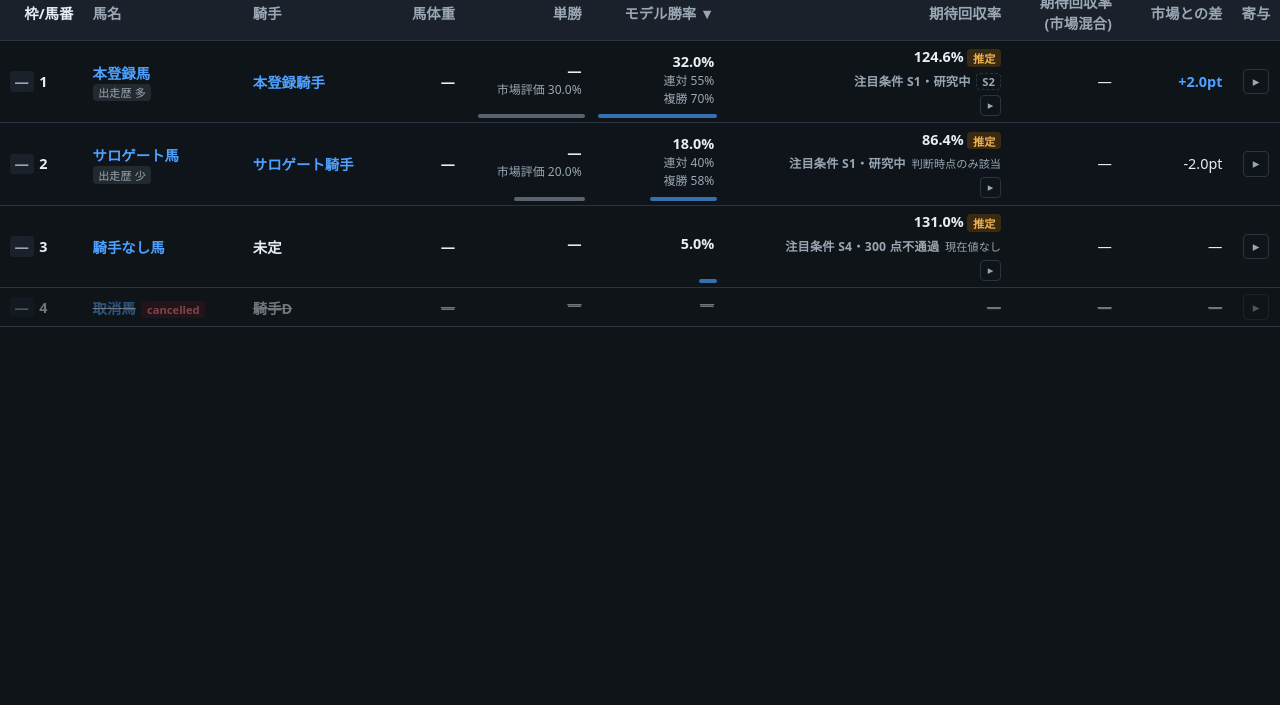
Test: HorseEntriesTable 注目条件 (138) › scoped display discipline + ROI basis labels over the chips and every opened panel (SC-007)
Click the button named "注目条件の内訳". click: (991,105)
box: [980,95,1001,116]
(page scrolled)
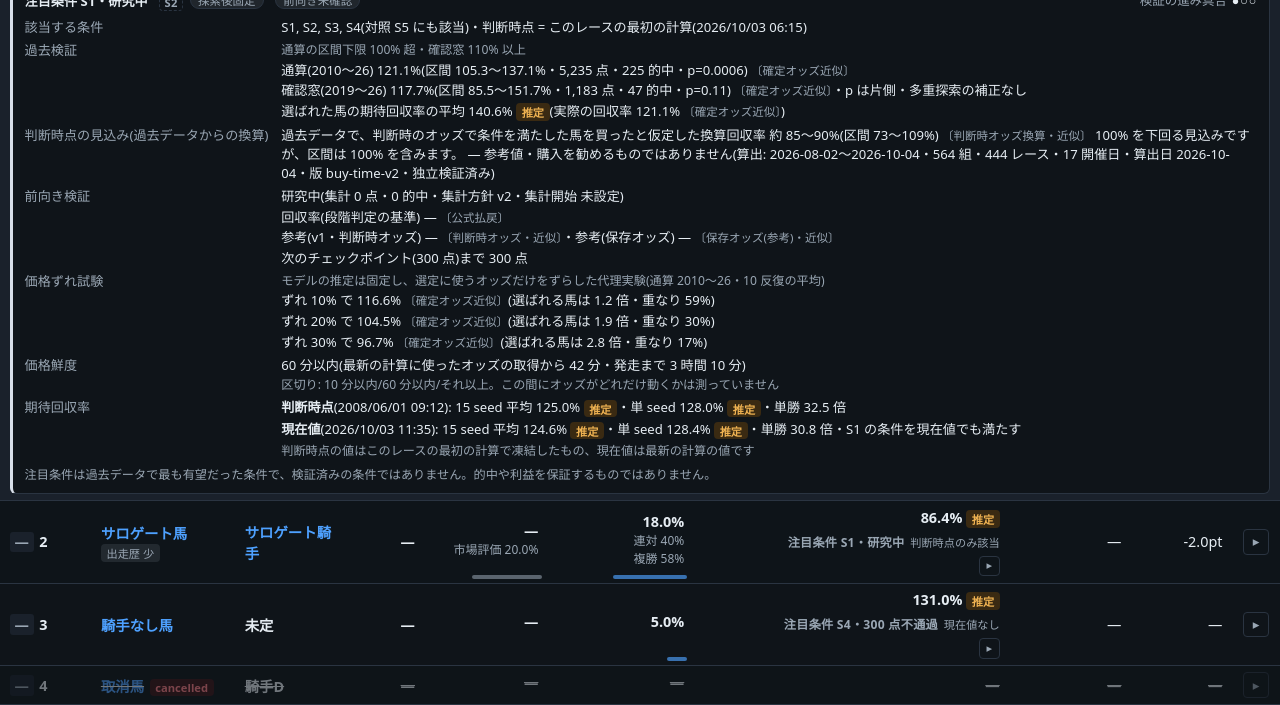
Click the button named "注目条件の内訳". click: (989,566)
box: [979,556,1000,576]
(page scrolled)
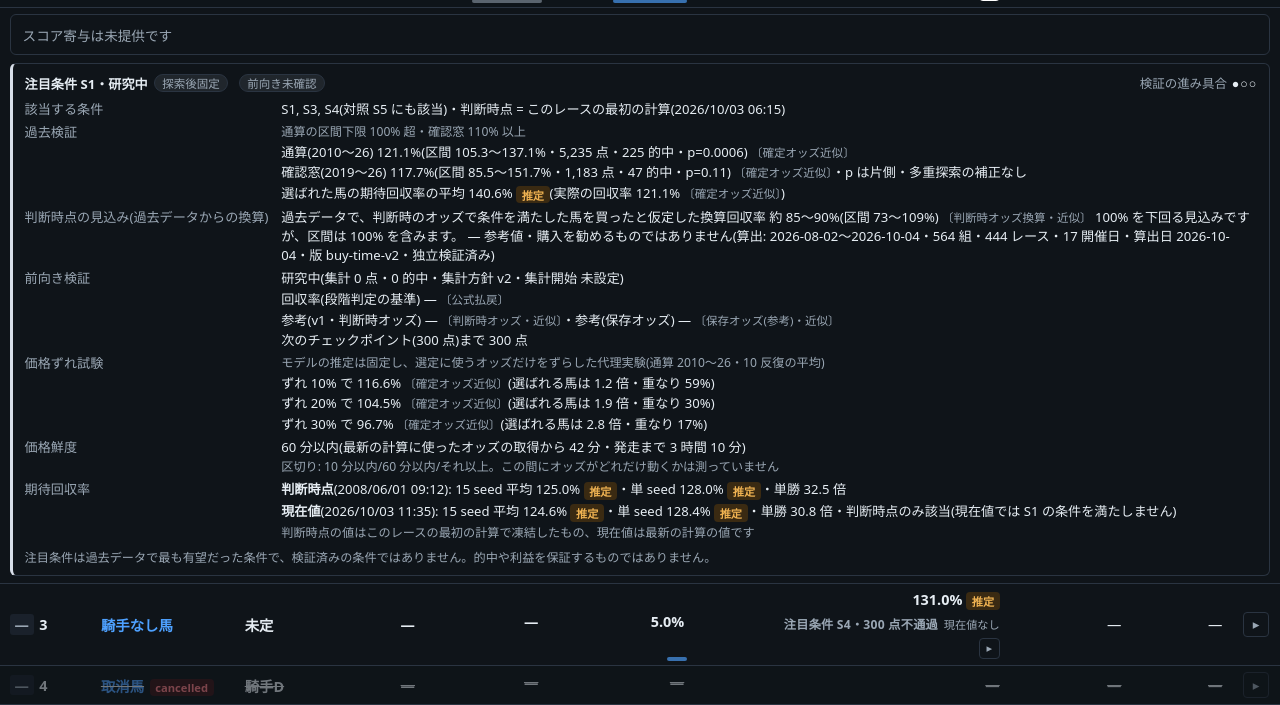
Click the button named "注目条件の内訳". click: (989,648)
box: [979,638,1000,659]
(page scrolled)
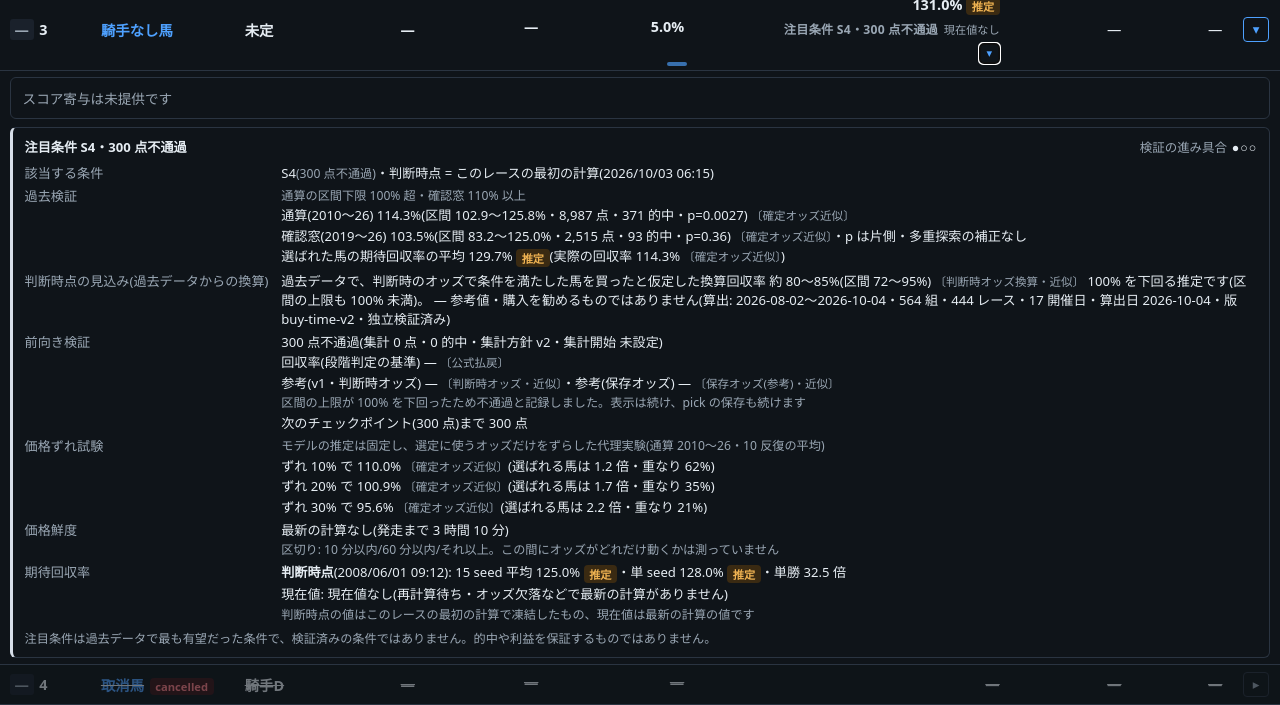
expect the number of elements with test id "attention-panel" is 3: met
expect the text "通算の区間下限 100% 超・確認窓 110% 以上" is shown: met, box [281,187,526,204]
expect the element showing "114.3%(区間 102.9〜125.8%・8,987 点・371 的中・p=0.0027)〔確定オッズ近似〕" is shown: met, box [377,206,855,224]
